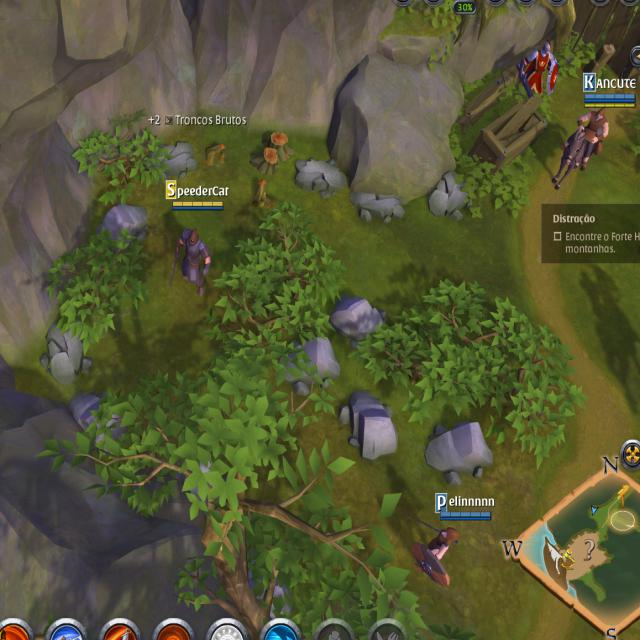broken stone: (35, 315, 96, 386), (424, 166, 475, 223), (292, 151, 348, 199), (346, 186, 408, 227), (148, 138, 197, 180)
stone: (422, 418, 499, 488), (337, 383, 401, 462), (272, 334, 342, 395), (331, 289, 390, 349), (92, 200, 152, 254)
